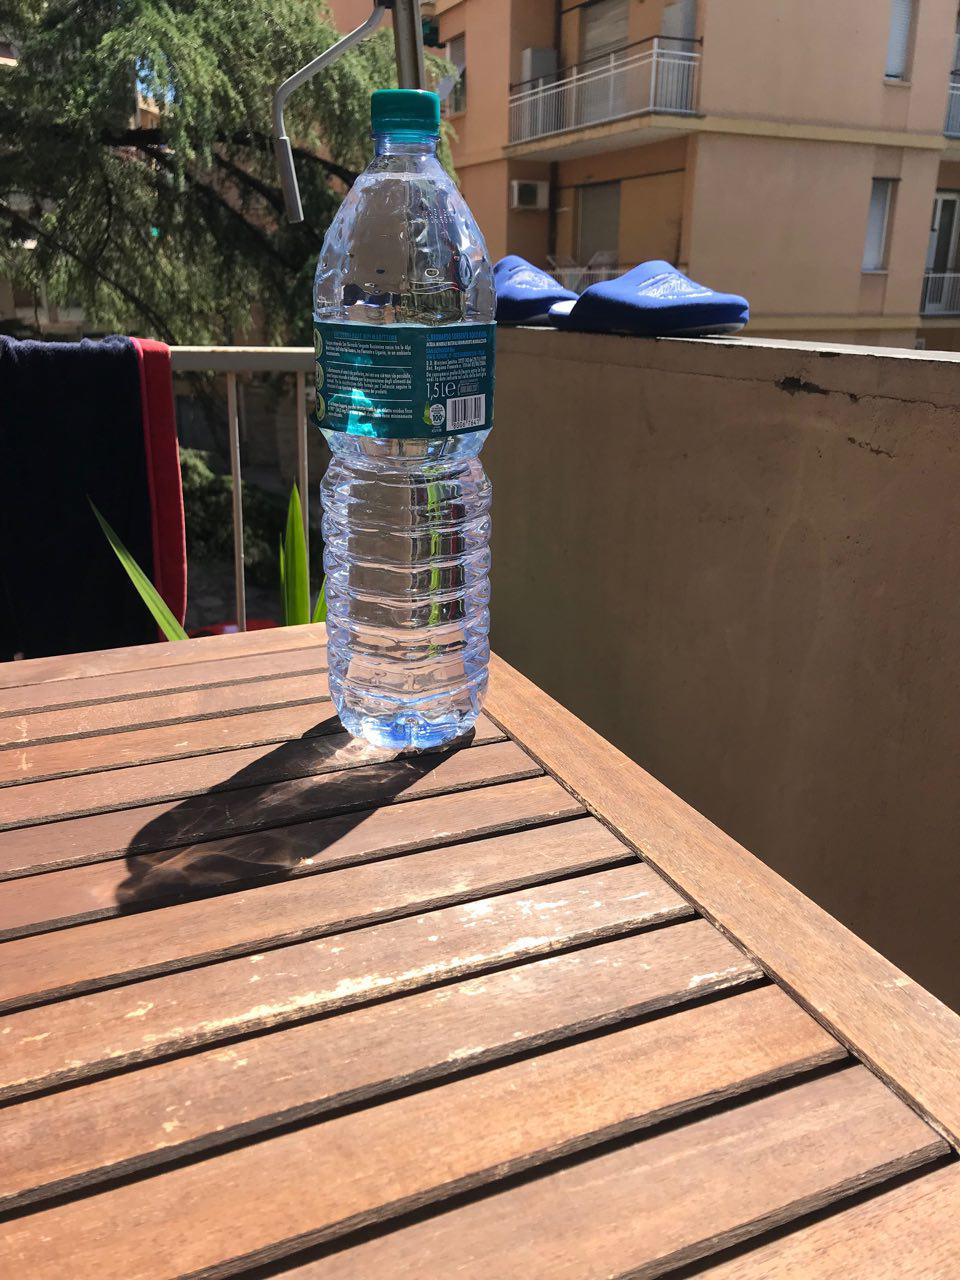san_bernardo: (311, 87, 496, 749)
